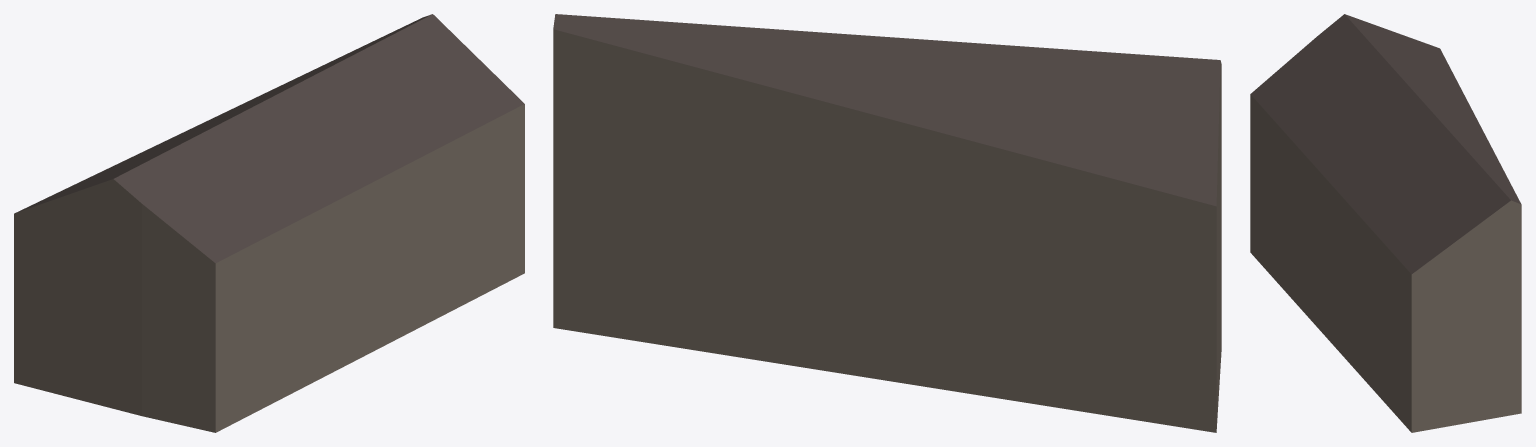
The picture shows the model from 3 angles, left to right: view 1: azimuth 30°, elevation 25°; view 2: azimuth 150°, elevation 25°; view 3: azimuth 270°, elevation 25°; orthographic projection. The views are drawn at different scales.
Parts seen in each view (by area): view 1: HP-w1198893546; view 2: HP-w1198893546; view 3: HP-w1198893546.
Part boxes in pixels (left/top/right/bottom): HP-w1198893546: left=14, top=14, right=524, bottom=432; HP-w1198893546: left=553, top=14, right=1221, bottom=432; HP-w1198893546: left=1250, top=14, right=1521, bottom=432.
Size of the model in its own units: 18.35 by 8.14 by 9.3.
